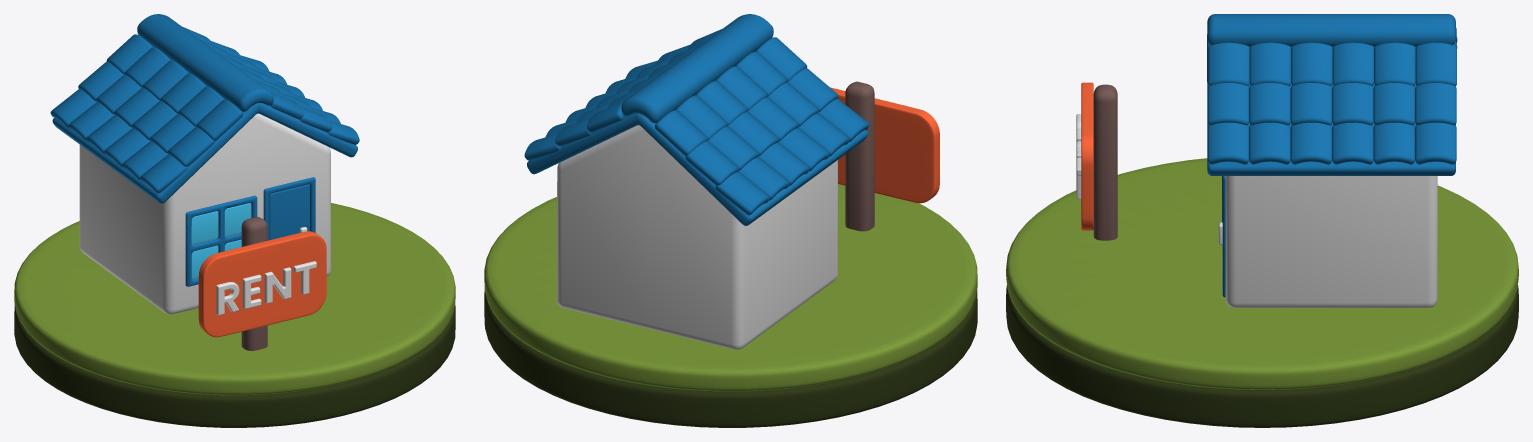
File: rent-property-animated-3d-icon-844676726998.glb
3 views of the same model, side by side, from view 1: azimuth 30°, elevation 25°; view 2: azimuth 150°, elevation 25°; view 3: azimuth 270°, elevation 25° (orthographic). The views are drawn at different scales.
Visible parts, largest first — view 1: Grass.003, Roof 1.003, Home.007, Land.003, Base 2, Roof 2.003, Text Rent, Window Glass 1.003, Door.007, Window Frame 1.003, Base 1, Door Frame.003; view 2: Grass.003, Home.007, Roof 1.003, Land.003, Base 2, Roof 2.003, Base 1; view 3: Grass.003, Roof 1.003, Home.007, Land.003, Base 1, Roof 2.003, Base 2, Text Rent, Door Frame.003.
Boxes of the visible parts, x1=… form: Grass.003: x1=14, y1=203, x2=455, y2=395; Roof 1.003: x1=50, y1=14, x2=359, y2=193; Home.007: x1=79, y1=113, x2=330, y2=314; Land.003: x1=14, y1=305, x2=455, y2=427; Base 2: x1=198, y1=231, x2=326, y2=337; Roof 2.003: x1=52, y1=47, x2=357, y2=203; Text Rent: x1=216, y1=261, x2=316, y2=315; Window Glass 1.003: x1=191, y1=203, x2=250, y2=279; Door.007: x1=269, y1=184, x2=309, y2=240; Window Frame 1.003: x1=185, y1=195, x2=257, y2=286; Base 1: x1=241, y1=217, x2=267, y2=350; Door Frame.003: x1=263, y1=177, x2=315, y2=240; Grass.003: x1=484, y1=184, x2=977, y2=391; Home.007: x1=557, y1=125, x2=837, y2=349; Roof 1.003: x1=524, y1=14, x2=869, y2=215; Land.003: x1=484, y1=290, x2=977, y2=427; Base 2: x1=830, y1=87, x2=939, y2=203; Roof 2.003: x1=527, y1=51, x2=868, y2=225; Base 1: x1=845, y1=81, x2=874, y2=231; Grass.003: x1=1006, y1=158, x2=1518, y2=389; Roof 1.003: x1=1207, y1=14, x2=1457, y2=164; Home.007: x1=1225, y1=176, x2=1437, y2=307; Land.003: x1=1006, y1=286, x2=1518, y2=427; Base 1: x1=1093, y1=84, x2=1117, y2=240; Roof 2.003: x1=1207, y1=34, x2=1456, y2=175; Base 2: x1=1081, y1=82, x2=1093, y2=230; Text Rent: x1=1076, y1=114, x2=1081, y2=199; Door Frame.003: x1=1222, y1=176, x2=1225, y2=297.
Bounding box in the file's own units: 1.99 × 1.31 × 1.99.
